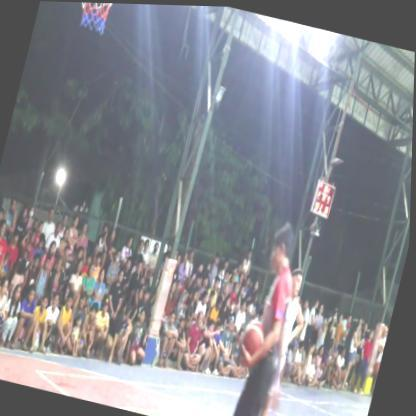basketball: (234, 318, 270, 371)
rim: (72, 2, 126, 38)
